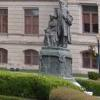Statue: (34, 0, 83, 79)
